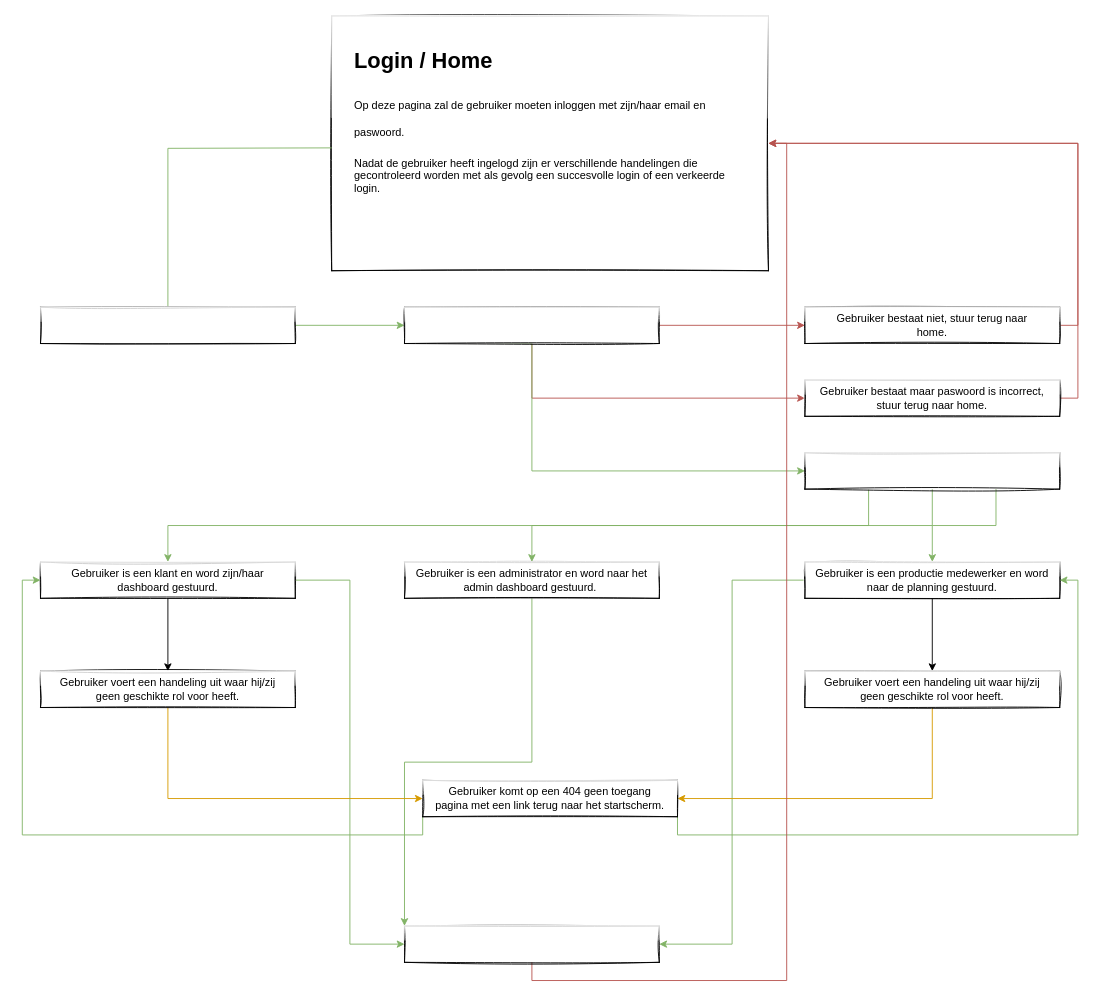
This 1101x1004 diagram has some shape labels left out. Each missing label, with the centre of its shape:
Check of gebruiker bestaat in de database.: the point at 531,325
Gebruiker bestaat en paswoord is correct, check de toegewezen rol.: the point at 932,470
Gebruiker login met email en paswoord.: the point at 167,325
Gebruiker logt uit voor zijn/haar sessie.: the point at 531,943
